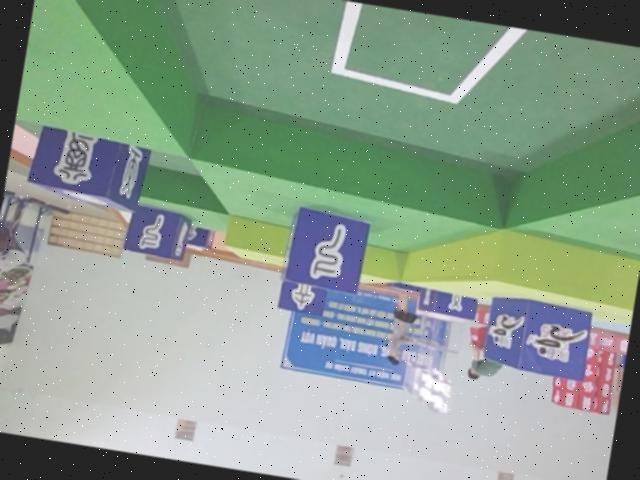R1 Blue: (479, 294, 593, 383)
R2 Fake Blue: (23, 124, 150, 213), (282, 205, 373, 296), (120, 203, 189, 262), (277, 277, 329, 316)
R2 Real Blue: (414, 286, 476, 321)
